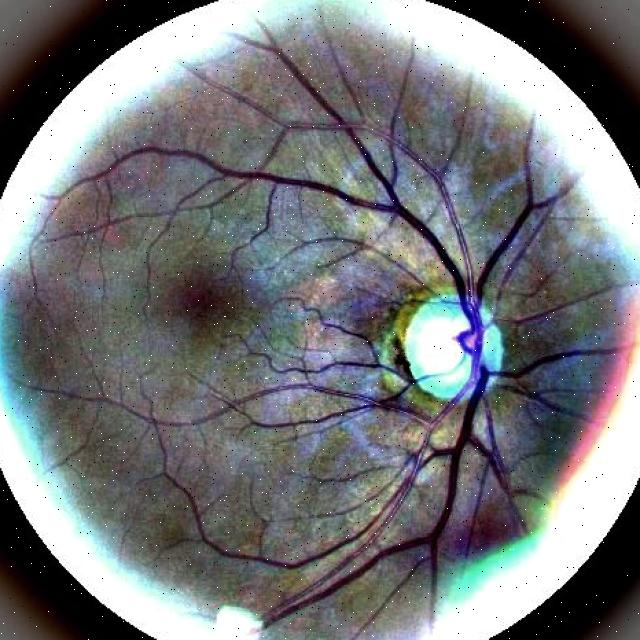Macula: (185, 291, 217, 317)
Nerves: (419, 202, 534, 533), (437, 368, 489, 533), (396, 196, 460, 283), (391, 299, 431, 387), (505, 207, 529, 246), (478, 251, 500, 291), (400, 357, 411, 375)
Optic Disk: (404, 295, 472, 401), (483, 312, 504, 371)
